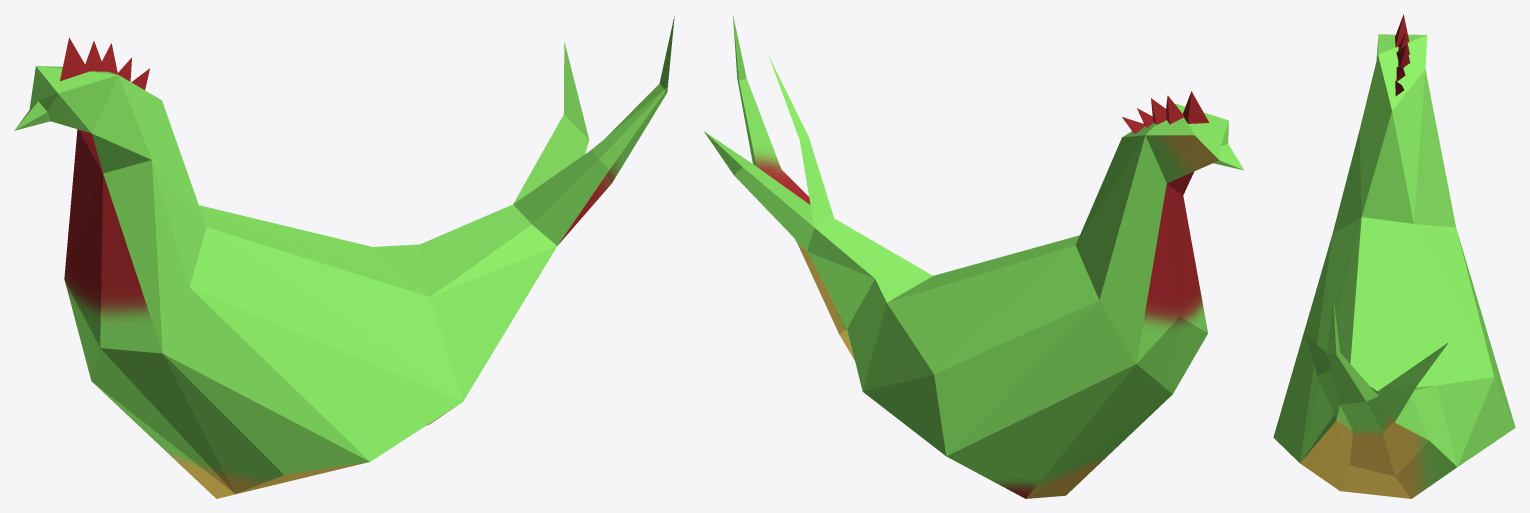
File: chicken_model.fbx
3 views of the same model, side by side, from view 1: azimuth 30°, elevation 25°; view 2: azimuth 150°, elevation 25°; view 3: azimuth 270°, elevation 25° (orthographic). The views are drawn at different scales.
Visible parts, largest first — view 1: Cylinder, Cone.001; view 2: Cylinder, Cone.001; view 3: Cylinder, Cone.001.
Boxes of the visible parts, box(x1,y1,x2,y2) form: Cylinder: box(14, 15, 674, 498); Cone.001: box(60, 37, 149, 89); Cylinder: box(704, 15, 1244, 498); Cone.001: box(1122, 91, 1209, 133); Cylinder: box(1273, 34, 1515, 498); Cone.001: box(1395, 14, 1410, 95).
Size of the model in its own units: 1.74 by 1.33 by 0.7328.
